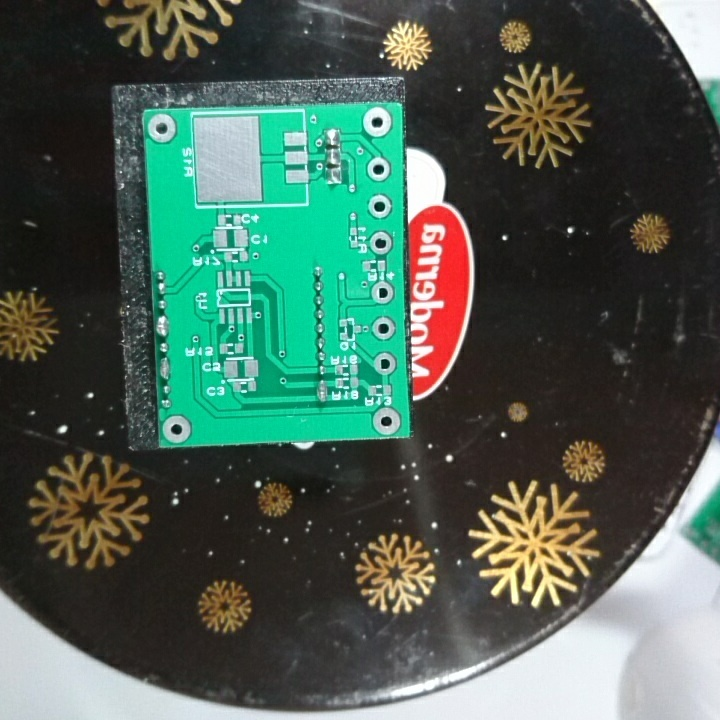F: (359, 104, 394, 139), (369, 403, 403, 437), (145, 110, 178, 145), (160, 414, 194, 445), (363, 155, 393, 183), (365, 229, 396, 256), (369, 315, 398, 343), (366, 193, 395, 221), (371, 349, 399, 377), (369, 280, 396, 306)
P: (154, 312, 171, 338), (314, 377, 329, 405), (157, 355, 173, 380)
